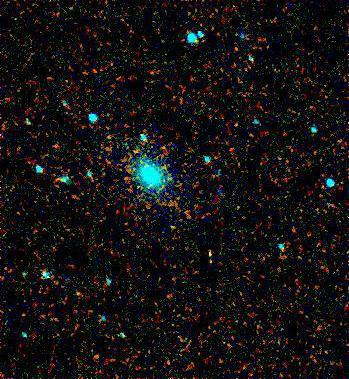star: (278, 127, 308, 157)
